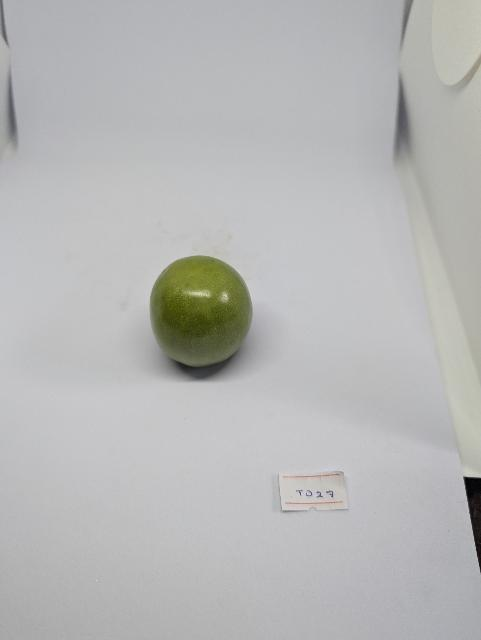green: (149, 251, 254, 370)
